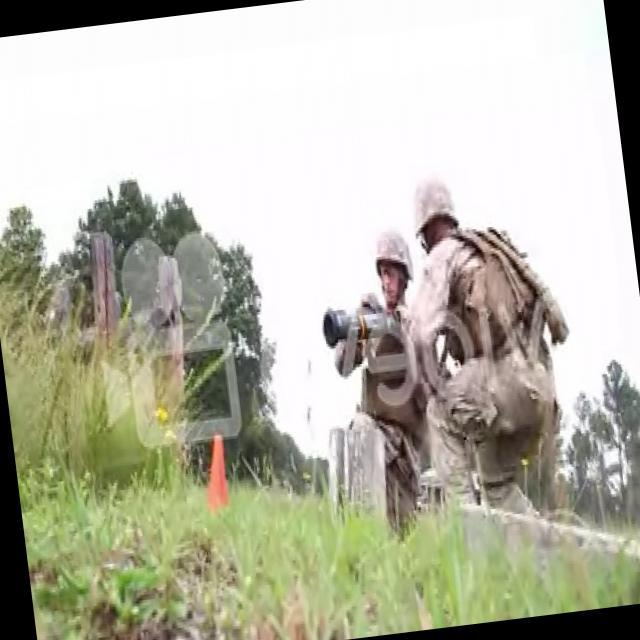rocket: (322, 298, 403, 351)
